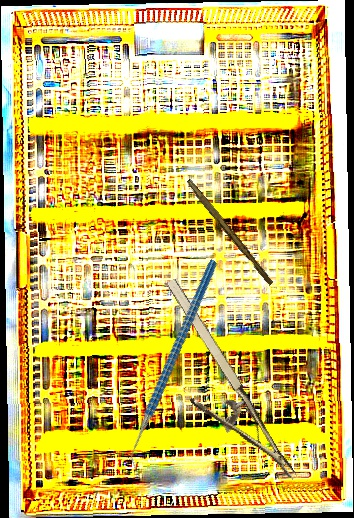Chopper: (70, 258, 278, 477)
Needle Holder: (133, 274, 298, 505)
Scalpel Handle: (183, 178, 276, 287)
